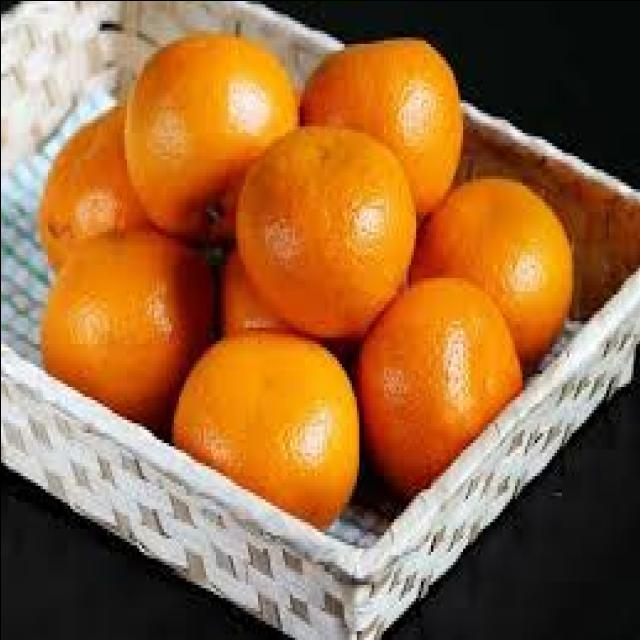orange: (228, 123, 418, 326)
